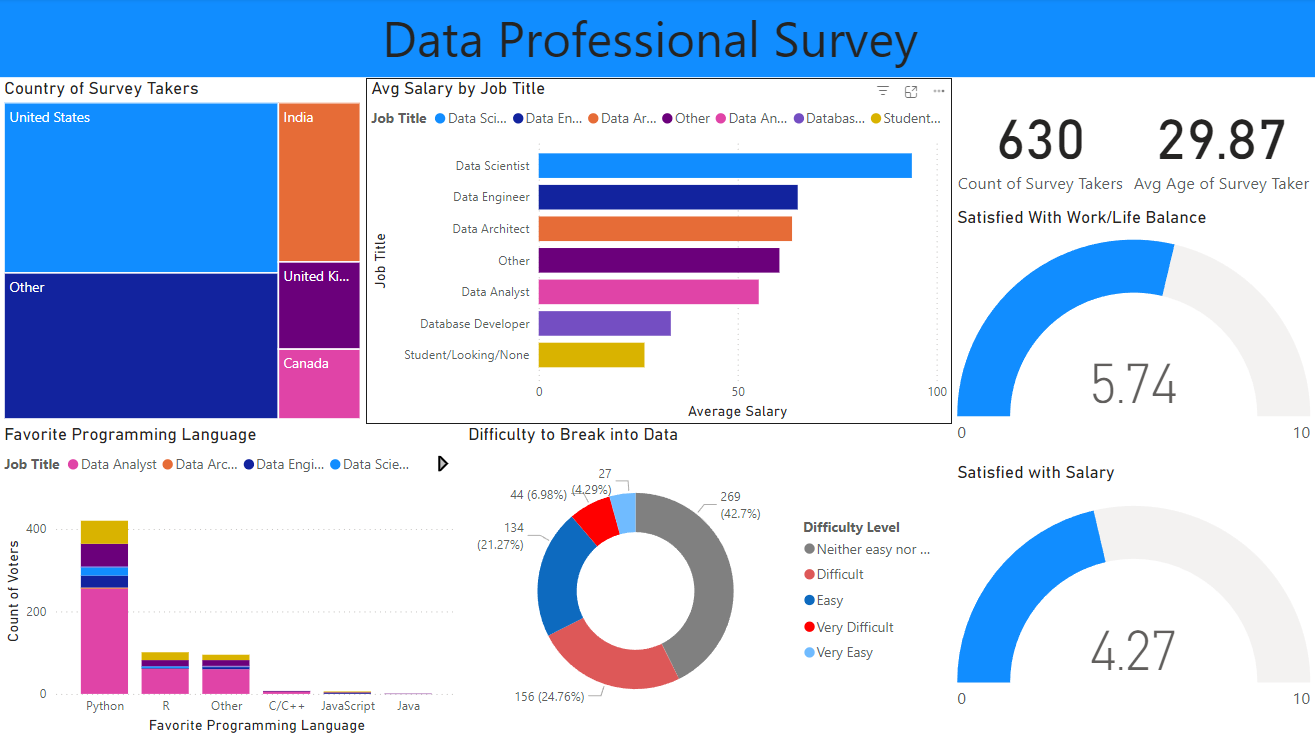

What the dashboard file says about the page in this screenshot:
{"tool":"powerbi","page":{"name":"Page 1","canvas":[1280,720],"ordinal":0},"visuals":[{"type":"textbox","box":[0,0,1280,77.5],"z":0},{"type":"card","fields":{"Values":["CountNonNull(Data Professional Survey.Unique ID)"]},"box":[926.5,77.5,171.8,126.1],"z":1000},{"type":"card","fields":{"Values":["Avg(Data Professional Survey.Q10 - Current Age)"]},"box":[1098.3,77.5,181.7,126.1],"z":2000},{"type":"barChart","title":"Avg Salary by Job Title","fields":{"Category":["Data Professional Survey.Q1 - Which Title Best Fits your Current Role?.1"],"Y":["Avg(Data Professional Survey.Average Salary)"],"Series":["Data Professional Survey.Q1 - Which Title Best Fits your Current Role?.1"]},"box":[356.5,77.5,570,336.6],"z":3000},{"type":"columnChart","title":"Favorite Programming Language","fields":{"Category":["Data Professional Survey.Q5 - Favorite Programming Language.1"],"Y":["CountNonNull(Data Professional Survey.Unique ID)"],"Series":["Data Professional Survey.Q1 - Which Title Best Fits your Current Role?.1"]},"box":[0,414.1,450.8,305.8],"z":4000},{"type":"treemap","title":"Country of Survey Takers","fields":{"Group":["Data Professional Survey.Q11 - Which Country do you live in?.1"],"Values":["CountNonNull(Data Professional Survey.Q11 - Which Country do you live in?.1)"]},"box":[0,77.5,356.5,336.6],"z":5000},{"type":"gauge","title":"Satisfied With Work/Life Balance","fields":{"Y":["Avg(Data Professional Survey.Q6 - How Happy are you in your Current Position with the following? (Work/Life Balance))"],"MinValue":["Min(Data Professional Survey.Q6 - How Happy are you in your Current Position with the following? (Work/Life Balance))"],"MaxValue":["Max(Data Professional Survey.Q6 - How Happy are you in your Current Position with the following? (Work/Life Balance))1"]},"box":[926.5,203.6,353.5,247.3],"z":6000},{"type":"gauge","title":"Satisfied with Salary","fields":{"Y":["Avg(Data Professional Survey.Q6 - How Happy are you in your Current Position with the following? (Salary))"],"MinValue":["Min(Data Professional Survey.Q6 - How Happy are you in your Current Position with the following? (Salary))"],"MaxValue":["Max(Data Professional Survey.Q6 - How Happy are you in your Current Position with the following? (Salary))"]},"box":[926.5,450.8,353.5,269.1],"z":7000},{"type":"donutChart","title":"Difficulty to Break into Data","fields":{"Category":["Data Professional Survey.Q7 - How difficult was it for you to break into Data?"],"Y":["CountNonNull(Data Professional Survey.Q7 - How difficult was it for you to break into Data?)"]},"box":[450.8,414.1,475.7,305.8],"z":8000}]}

Visuals, with their boxes in screenshot pixels (x1, y1, x2, y2), scaled from the page's 1280x720 canvas onto the 1315x734 screenshot:
textbox: BBox(0, 0, 1314, 79)
card - CountNonNull(Data Professional Survey.Unique ID): BBox(952, 79, 1128, 208)
card - Avg(Data Professional Survey.Q10 - Current Age): BBox(1128, 79, 1314, 208)
"Avg Salary by Job Title" barChart: BBox(366, 79, 952, 422)
"Favorite Programming Language" columnChart: BBox(0, 422, 463, 733)
"Country of Survey Takers" treemap: BBox(0, 79, 366, 422)
"Satisfied With Work/Life Balance" gauge: BBox(952, 208, 1314, 460)
"Satisfied with Salary" gauge: BBox(952, 460, 1314, 733)
"Difficulty to Break into Data" donutChart: BBox(463, 422, 952, 733)
